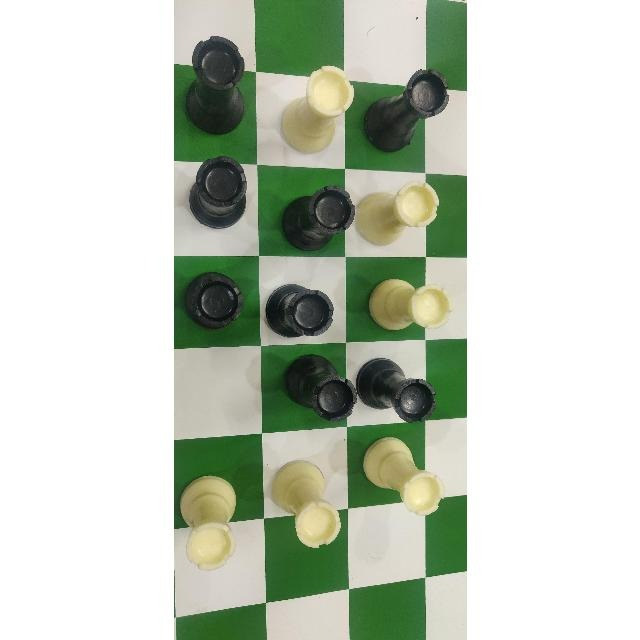black-rook: (179, 31, 254, 146), (359, 59, 450, 152), (273, 357, 356, 428), (362, 350, 437, 426), (276, 175, 351, 247), (180, 157, 250, 228), (182, 267, 246, 343), (268, 279, 337, 341)
white-rook: (354, 439, 449, 527), (266, 466, 346, 556), (283, 61, 355, 154), (366, 173, 438, 255), (175, 492, 242, 580), (369, 271, 450, 342)
